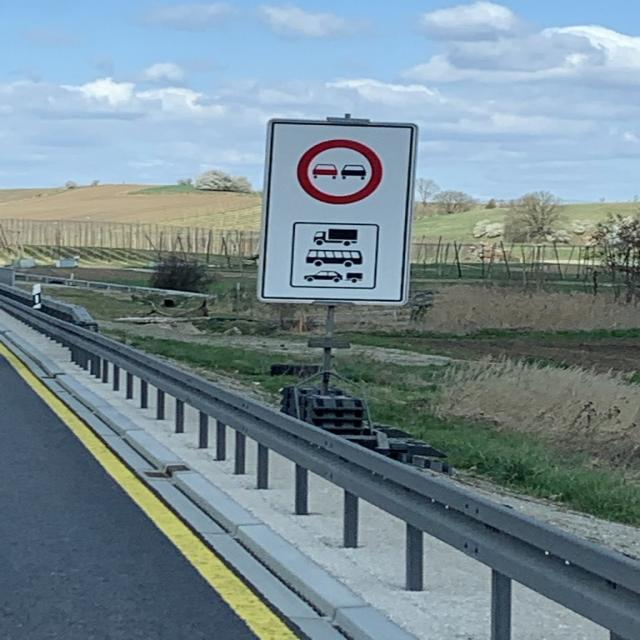no overtaking: (294, 137, 388, 208)
